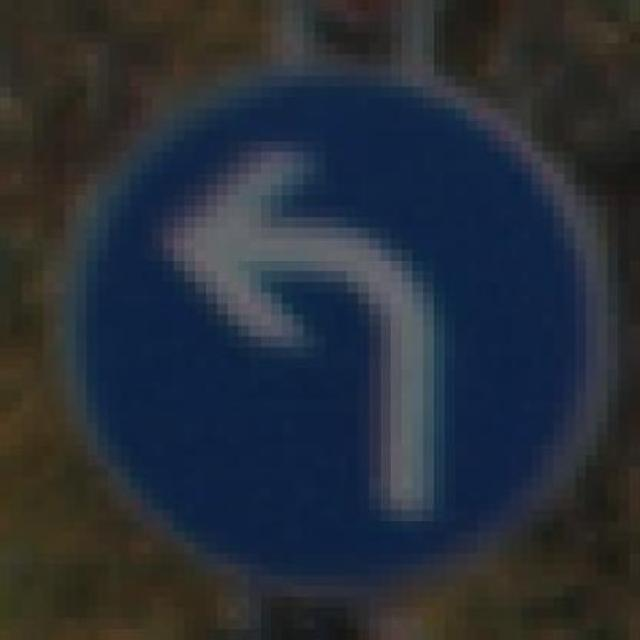Turn left ahead: (54, 43, 618, 597)
